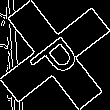P_NE: (24, 25, 86, 85)
